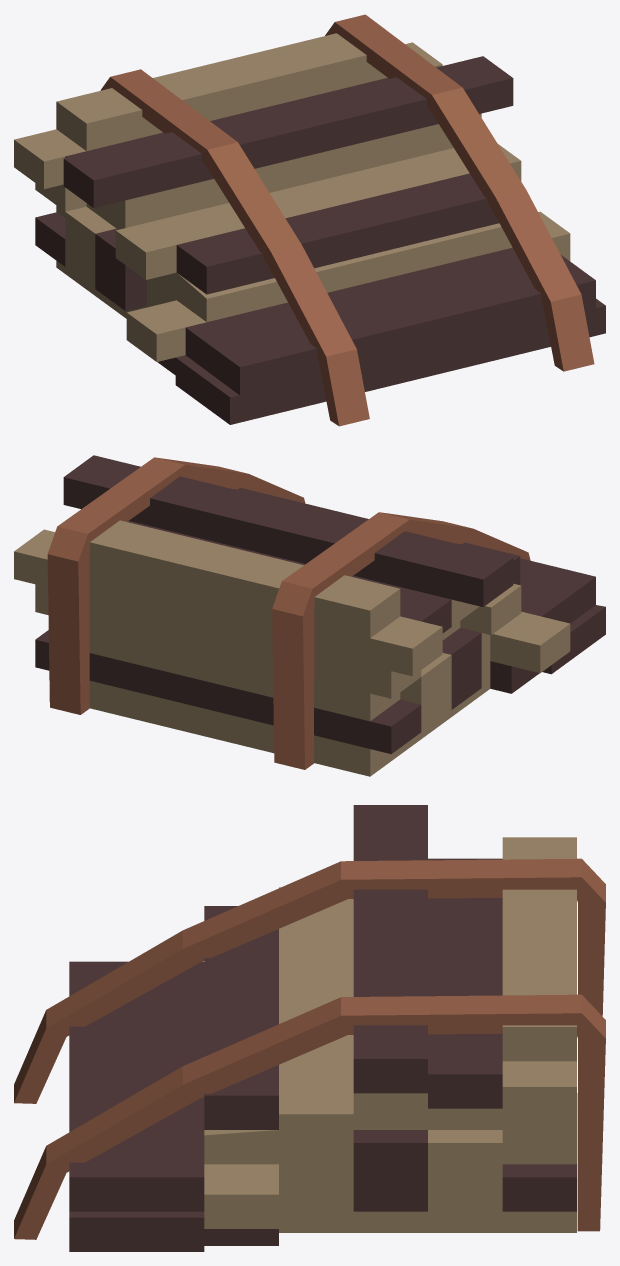
File: LightWoodDecorationSmallPlankPile1.fbx
3 renders of one model, top to bottom at view 1: azimuth 30°, elevation 25°; view 2: azimuth 150°, elevation 25°; view 3: azimuth 270°, elevation 25°, orthographic. The views are drawn at different scales.
Visible parts, largest first — view 1: PlankPile, RopeTies; view 2: PlankPile, RopeTies; view 3: PlankPile, RopeTies.
Part boxes in pixels (<box>): PlankPile: <box>14,33,605,424</box>; RopeTies: <box>100,14,594,426</box>; PlankPile: <box>14,455,605,776</box>; RopeTies: <box>47,457,530,769</box>; PlankPile: <box>69,805,576,1251</box>; RopeTies: <box>14,858,605,1239</box>.
Bounding box in the file's own units: 470 × 196 × 463.
